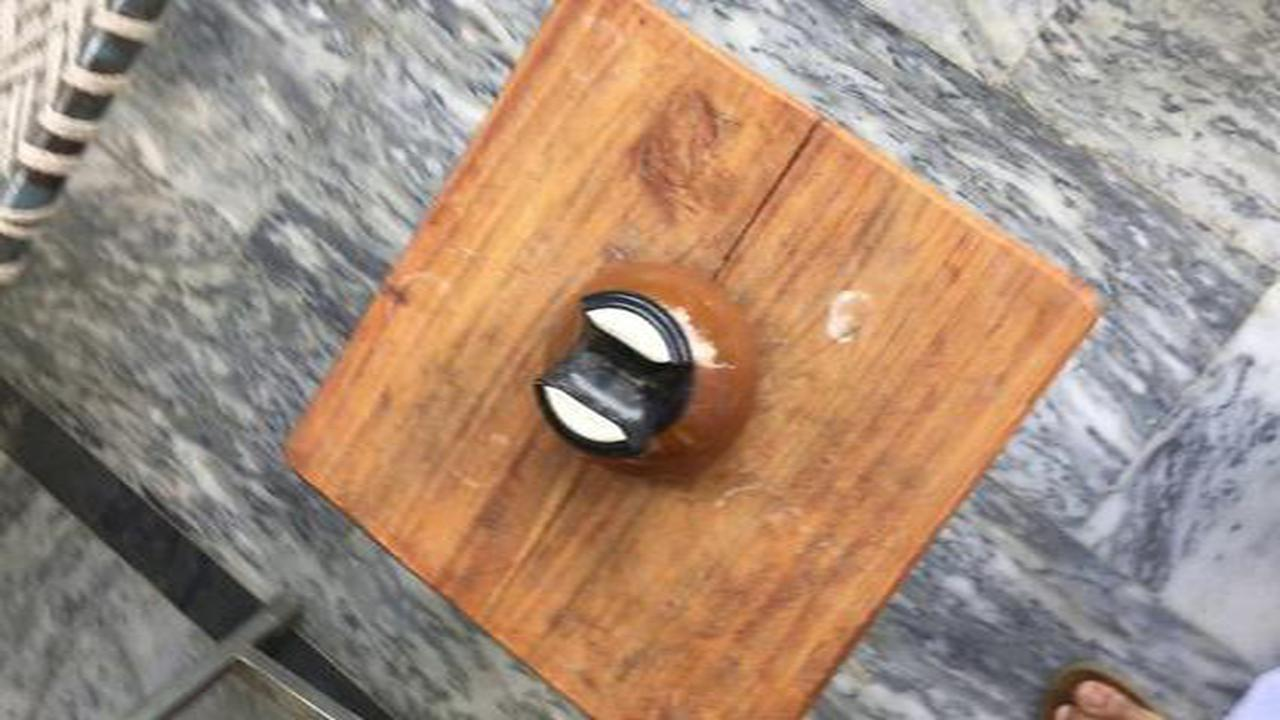insulator_pin: (490, 243, 785, 492)
